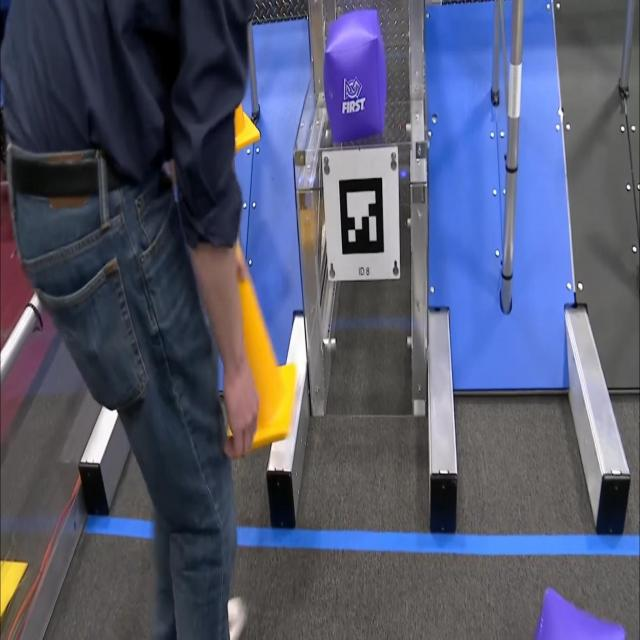frc_cone: (222, 280, 296, 450), (228, 92, 258, 156)
frc_cube: (325, 10, 388, 137), (519, 584, 630, 640)
